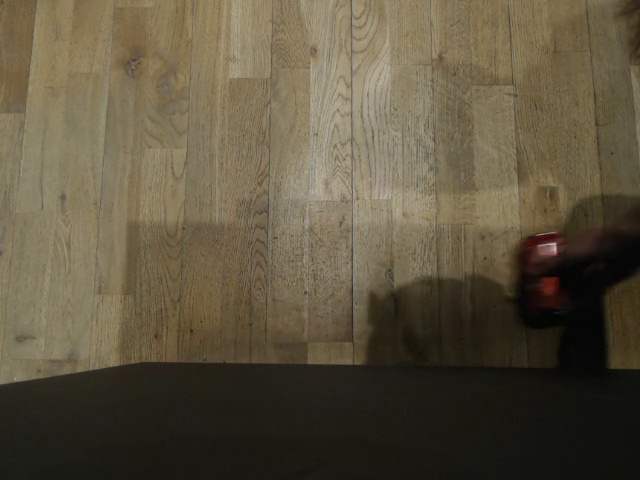cola: (518, 231, 578, 315)
